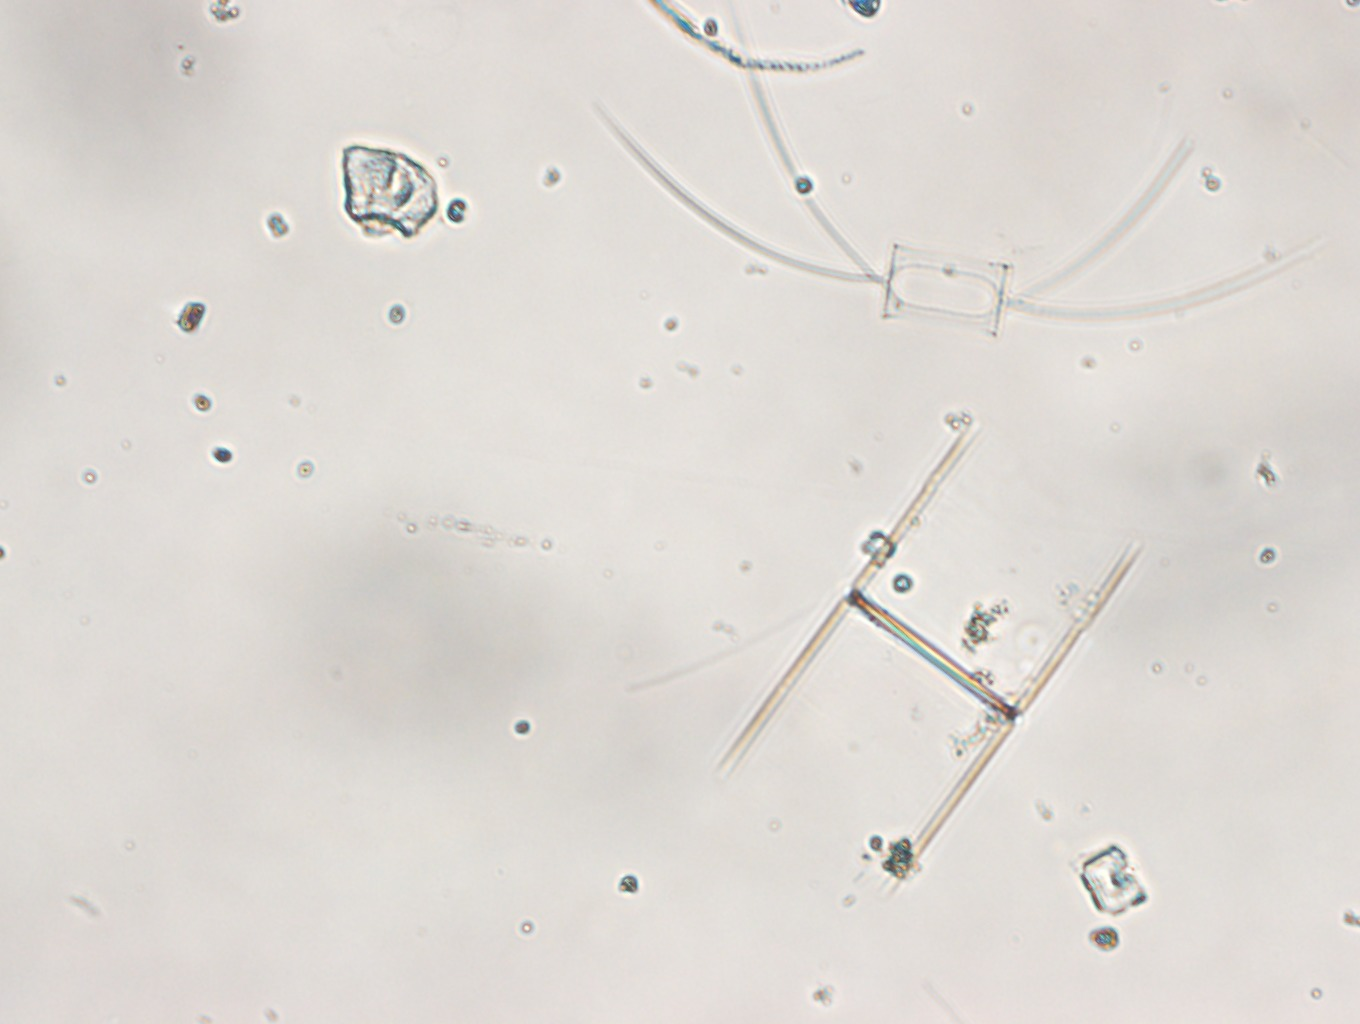chaetoceros: (625, 28, 1294, 333)
guinardia flaccida: (722, 435, 1151, 864)
